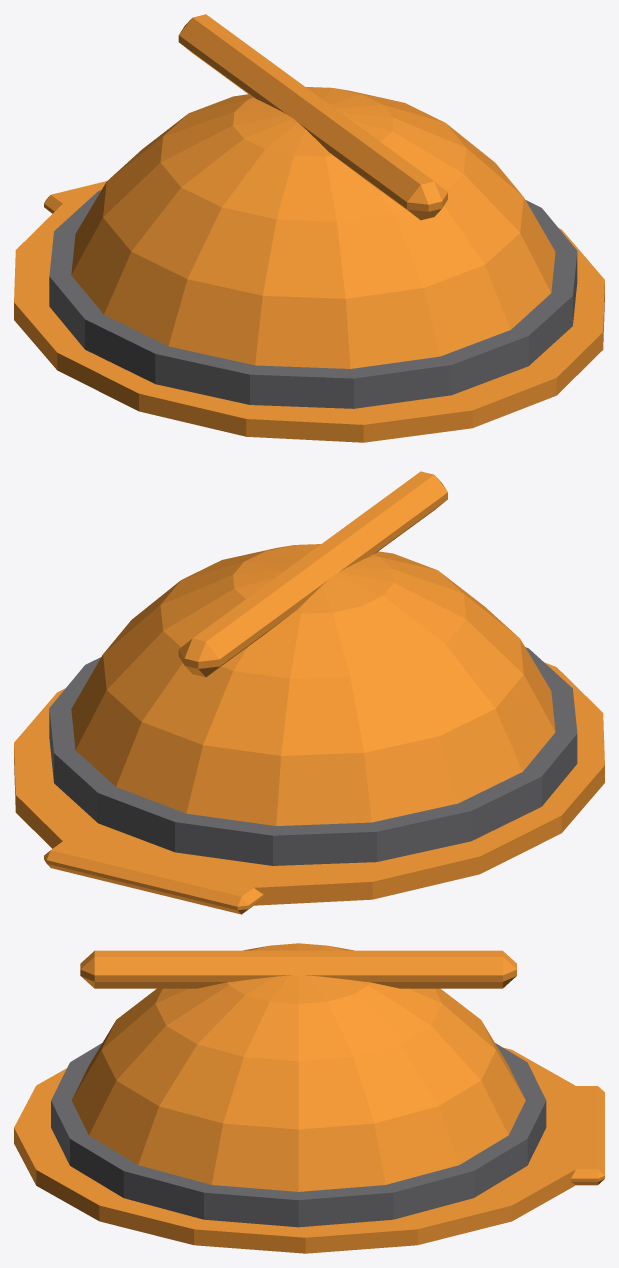
The model's file is hat_hardhat.glb.
3 renders of one model, top to bottom at view 1: azimuth 30°, elevation 25°; view 2: azimuth 150°, elevation 25°; view 3: azimuth 270°, elevation 25°, orthographic. The views are drawn at different scales.
Visible parts, largest first — view 1: Head; view 2: Head; view 3: Head.
Boxes of the visible parts, box(x1,y1,x2,y2) form: Head: box(14, 14, 604, 442); Head: box(14, 471, 604, 914); Head: box(14, 943, 604, 1253).
Size of the model in its own units: 0.74 by 0.2975 by 0.8394.
